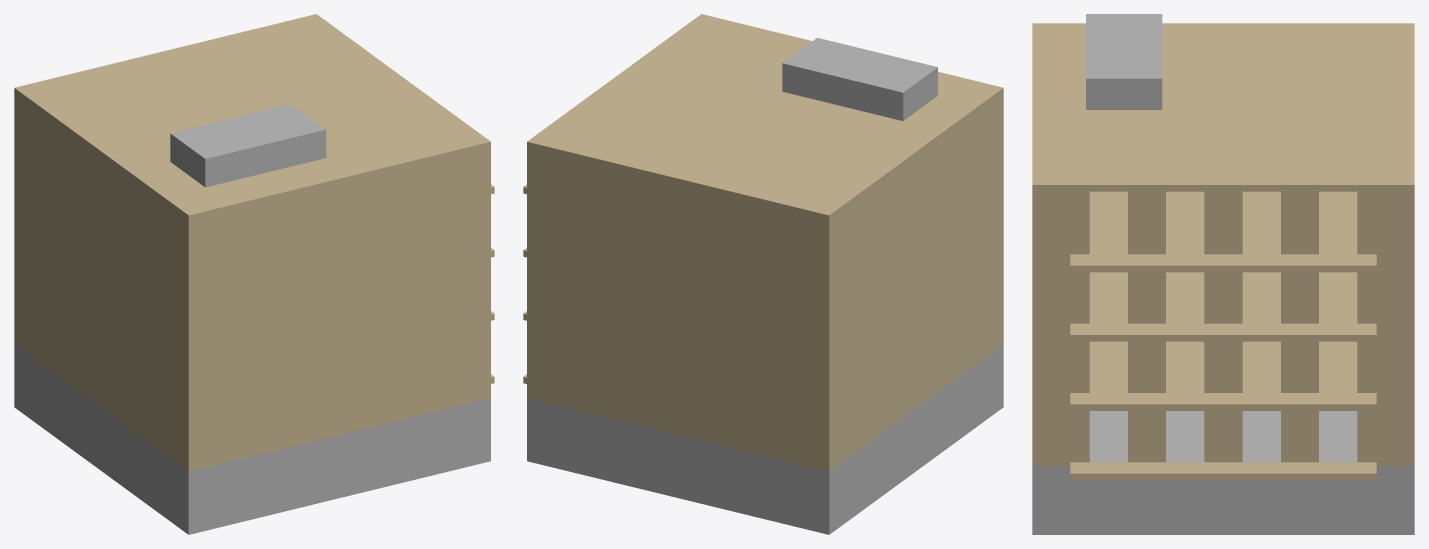
The model's file is Flat.fbx.
3 renders of one model, left to right at view 1: azimuth 30°, elevation 25°; view 2: azimuth 150°, elevation 25°; view 3: azimuth 270°, elevation 25°, orthographic. The views are drawn at different scales.
Visible parts, largest first — view 1: Cube.006, Cube.004, Cube.007, Cube, Cube.025, Cube.005; view 2: Cube.005, Cube.004, Cube.007, Cube, Cube.025, Cube.006; view 3: Cube.004, Cube, Cube.012, Cube.010, Cube.003, Cube.008, Cube.011, Cube.009, Cube.001, Cube.002, Cube.025, Cube.027 (+5 smaller).
Part boxes in pixels (x1,y1,x2,y2): Cube.006: [185, 148, 490, 471]; Cube.004: [14, 14, 490, 221]; Cube.007: [17, 95, 185, 468]; Cube: [14, 344, 490, 534]; Cube.025: [170, 104, 326, 187]; Cube.005: [14, 91, 17, 345]; Cube.005: [527, 145, 832, 471]; Cube.004: [527, 14, 1003, 221]; Cube.007: [832, 97, 1000, 468]; Cube: [527, 344, 1003, 534]; Cube.025: [782, 37, 937, 120]; Cube.006: [1000, 94, 1003, 345]; Cube.004: [1032, 23, 1414, 191]; Cube: [1032, 411, 1414, 534]; Cube.012: [1357, 188, 1410, 465]; Cube.010: [1036, 188, 1089, 465]; Cube.003: [1089, 191, 1357, 250]; Cube.008: [1204, 188, 1242, 462]; Cube.011: [1281, 188, 1318, 462]; Cube.009: [1128, 188, 1165, 462]; Cube.001: [1089, 341, 1357, 389]; Cube.002: [1089, 272, 1357, 320]; Cube.025: [1086, 14, 1162, 109]; Cube.027: [1070, 462, 1376, 480].
Bounding box in the file's own units: 1070 × 1100 × 1000.
